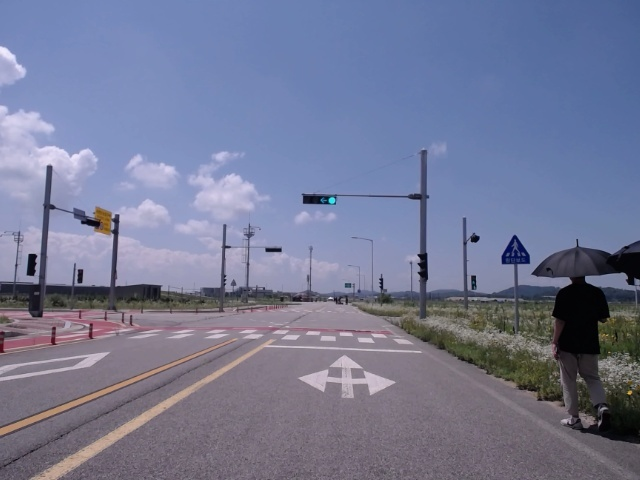all_green_4: (305, 193, 336, 205)
